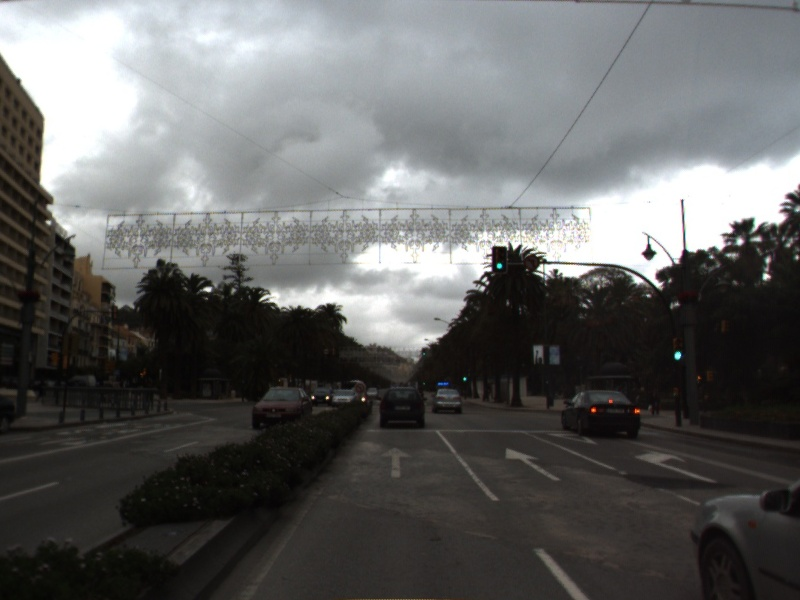RIGHT: (632, 447, 720, 485)
STRAIGHT: (504, 446, 564, 483), (378, 445, 415, 479)
